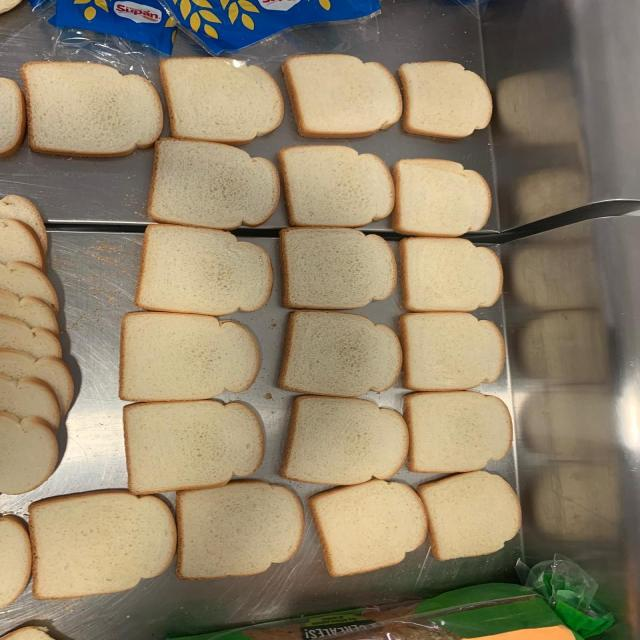sliced_bread: (30, 488, 178, 599), (123, 399, 265, 497), (21, 61, 164, 158), (134, 223, 273, 315), (177, 481, 306, 580), (119, 311, 260, 401), (147, 137, 281, 230), (280, 395, 408, 485), (307, 480, 427, 576), (160, 56, 283, 146), (278, 309, 403, 397), (281, 54, 403, 139), (276, 145, 395, 229), (278, 226, 397, 309), (417, 471, 521, 561), (403, 390, 513, 474), (399, 311, 506, 391), (391, 158, 492, 237), (400, 237, 503, 313), (398, 61, 493, 139)
